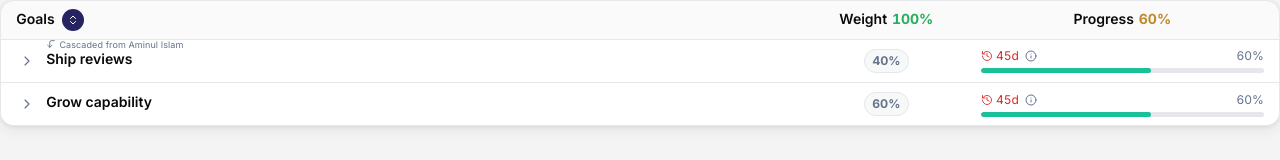
Test case: GoalsTable nested measures › marks cascaded-from goals with a tiny label above the name
Expected: the element "Cascaded from Aminul Islam" shows "Ship reviews", [46,50,132,67]
Hover over the element "Cascaded from Aminul Islam" at [115, 44], box [46,39,184,49]
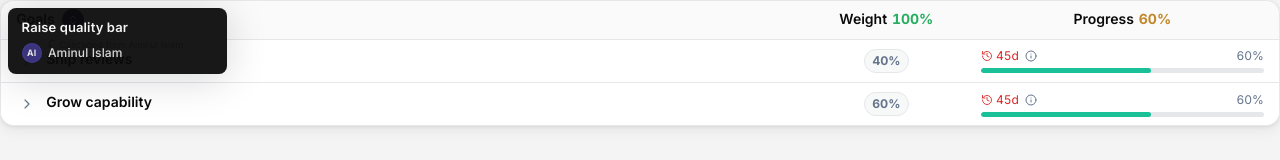
Expected: the tooltip does not show "No Metrics Yet", [8,8,227,74]
Result: the tooltip shows "Raise quality bar" at [22,19,128,35]
